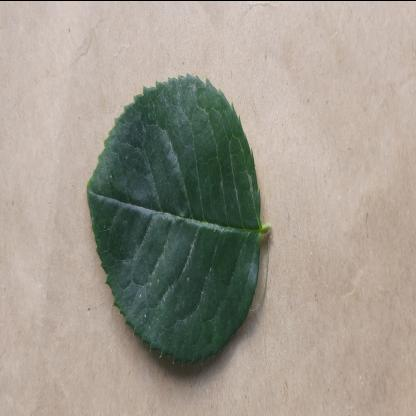normal: (86, 70, 260, 374)
